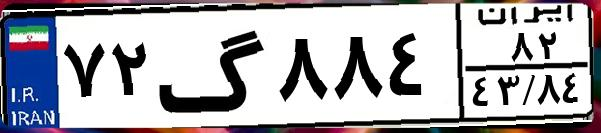2: (110, 28, 156, 98), (537, 27, 568, 80)
3: (495, 70, 520, 125)
4: (385, 28, 445, 110), (560, 70, 590, 125), (470, 70, 495, 125)
7: (57, 26, 110, 100)
8: (270, 28, 330, 110), (330, 28, 385, 110), (508, 27, 537, 80), (535, 70, 560, 125)
گ: (156, 12, 270, 120)
